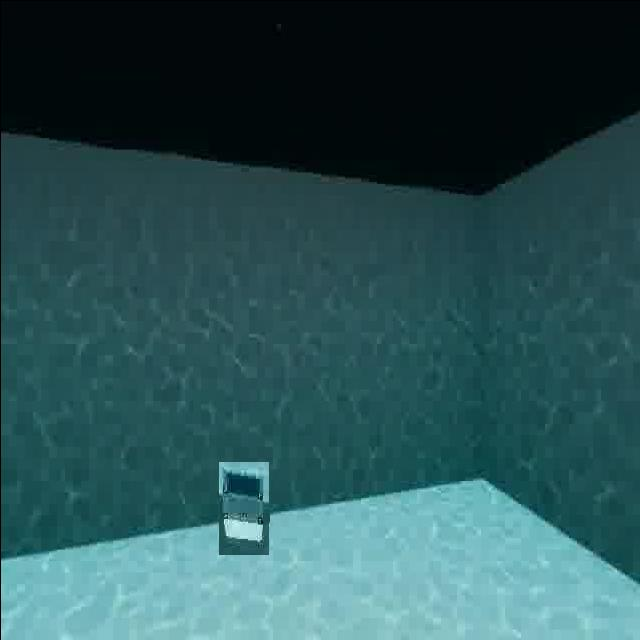Docking Station: (218, 460, 269, 554)
